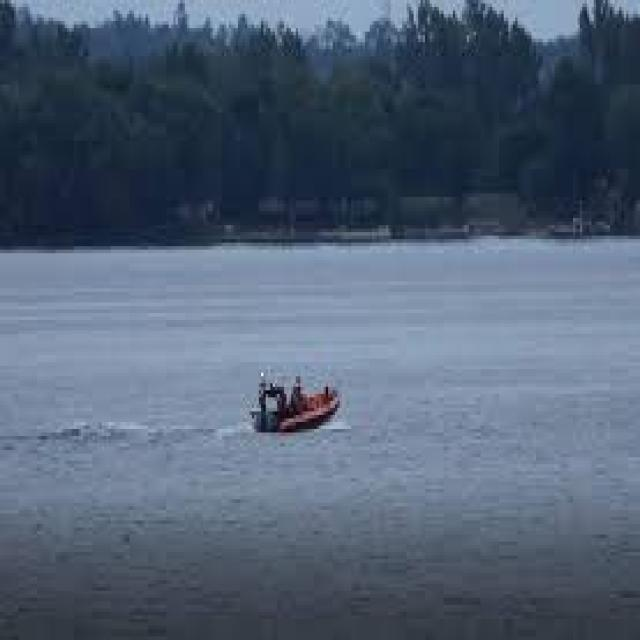houseboat: (250, 364, 341, 430)
